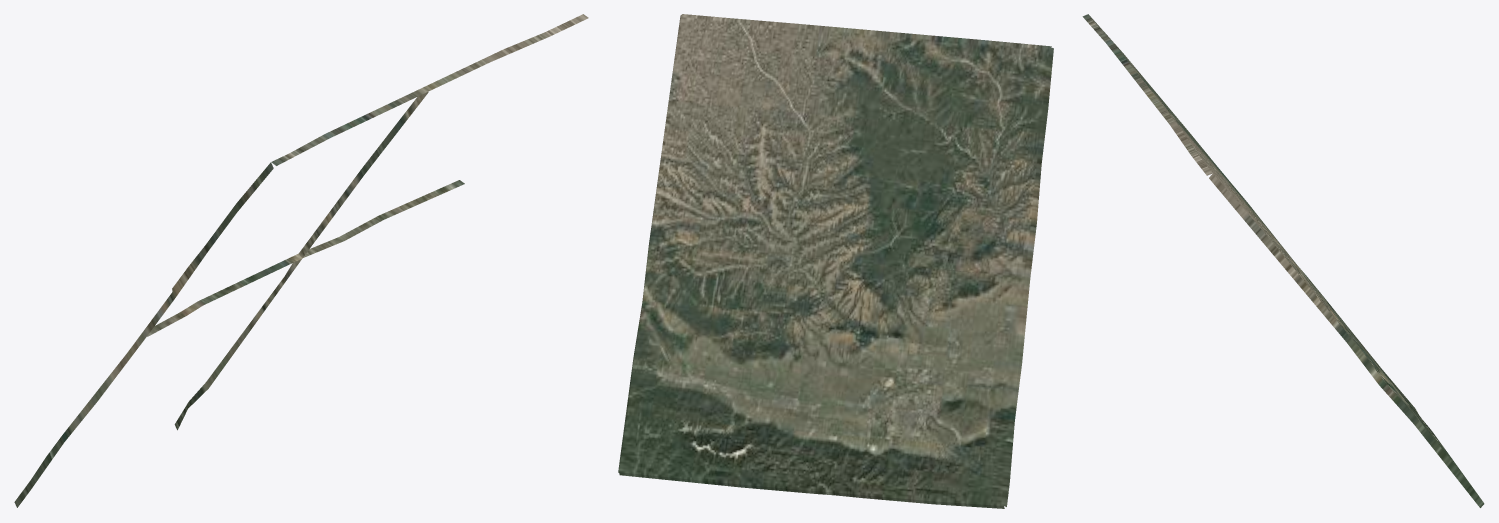
The picture shows the model from 3 angles, left to right: view 1: azimuth 30°, elevation 25°; view 2: azimuth 150°, elevation 25°; view 3: azimuth 270°, elevation 25°; orthographic projection. The views are drawn at different scales.
Bounding box in the file's own units: 303089 × 259652 × 255129.
Materials: 1 (1 with a texture image).
